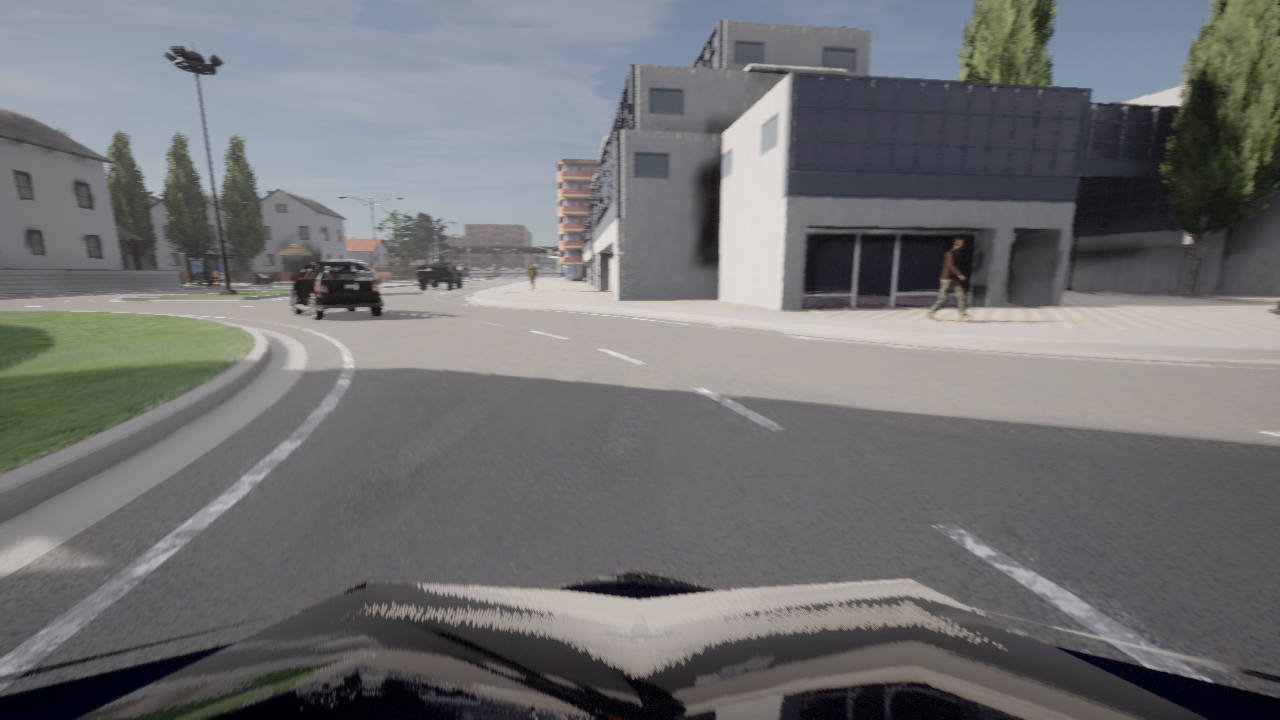cyclist: (0, 569, 1279, 719), (291, 262, 383, 320), (416, 263, 462, 289), (328, 260, 374, 274), (561, 272, 564, 276)
pedestrian: (926, 236, 974, 321), (527, 262, 537, 289), (1266, 301, 1279, 315)
